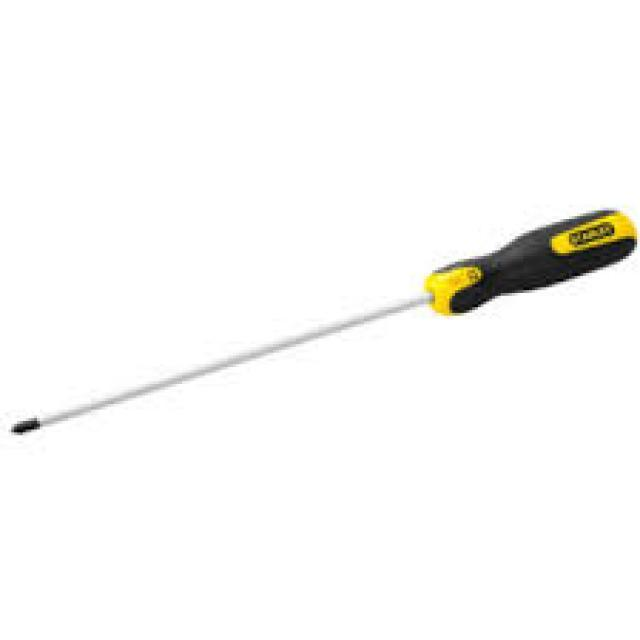screwdriver: (5, 202, 638, 438)
